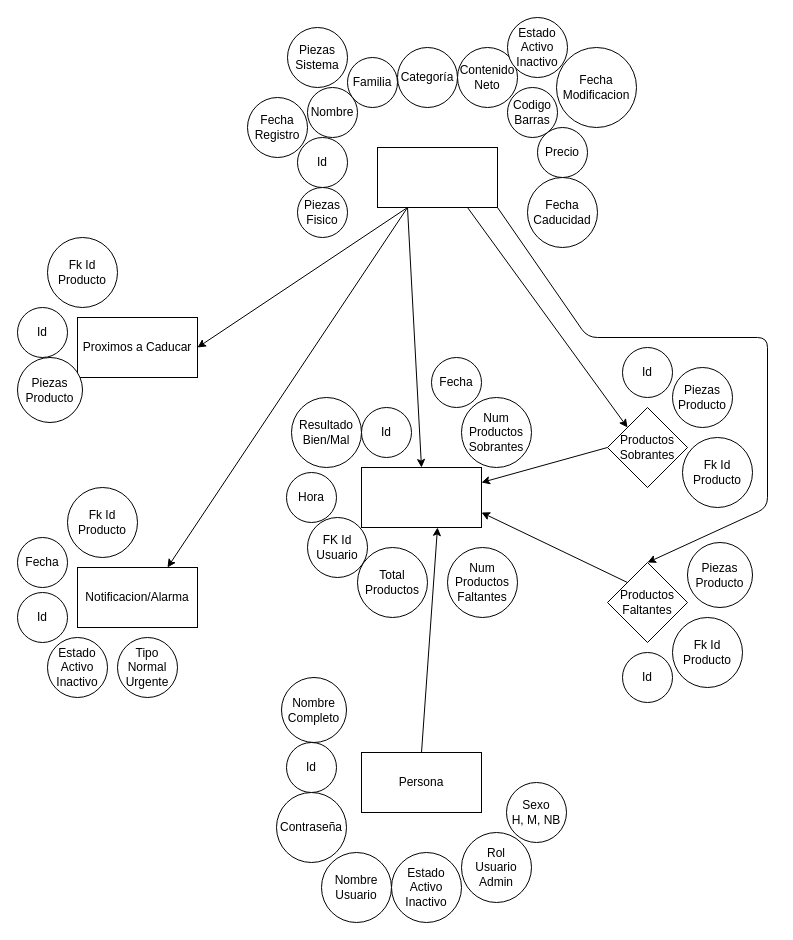
The diagram is 793 pixels wide and 940 high, and some of its shapes have lost their labels. Each missing label, with the centre of its shape:
"Inventario Realizado" goes at point (421, 497).
"Producto" goes at point (437, 177).
